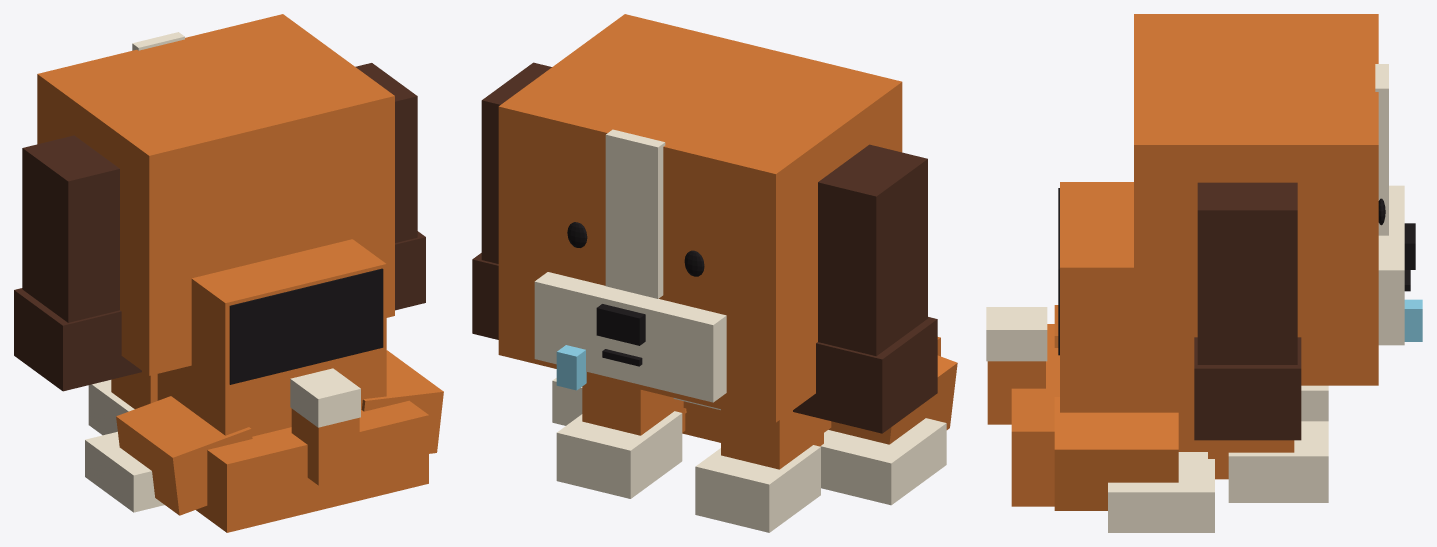
Rendered from Beagle_Block.obj.
The picture shows the model from 3 angles, left to right: view 1: azimuth 30°, elevation 25°; view 2: azimuth 150°, elevation 25°; view 3: azimuth 270°, elevation 25°; orthographic projection. The views are drawn at different scales.
Parts seen in each view (by area): view 1: NarrowHead, NarrowShortTorso, LongHangingEarL, GroundedRump, BlackBackSaddle, LegBL_Leg, SquareEarEndL, LongHangingEarR, LegBL_Paw, ShortTail, WhiteTailEnd, LegBR_Leg (+3 smaller); view 2: NarrowHead, LongHangingEarL, WhiteMuzzle, SquareEarEndL, WhiteCenterStripe, LegFR_Paw, LegFL_Paw, LegBL_Paw, LegFL_Leg, LegFR_Leg, LongHangingEarR, LegBL_Leg (+5 smaller); view 3: NarrowHead, NarrowShortTorso, LongHangingEarR, LegBR_Leg, SquareEarEndR, LegBR_Paw, LegFR_Paw, GroundedRump, WhiteMuzzle, WhiteTailEnd, ShortTail, WhiteCenterStripe (+4 smaller).
Boxes of the visible parts, x1=… form: NarrowHead: x1=37, y1=14, x2=394, y2=375; NarrowShortTorso: x1=157, y1=239, x2=386, y2=436; LongHangingEarL: x1=22, y1=135, x2=119, y2=322; GroundedRump: x1=196, y1=400, x2=428, y2=532; BlackBackSaddle: x1=229, y1=268, x2=383, y2=384; LegBL_Leg: x1=116, y1=396, x2=252, y2=515; SquareEarEndL: x1=14, y1=288, x2=141, y2=391; LongHangingEarR: x1=355, y1=63, x2=417, y2=242; LegBL_Paw: x1=85, y1=431, x2=164, y2=512; ShortTail: x1=291, y1=408, x2=359, y2=485; WhiteTailEnd: x1=290, y1=368, x2=360, y2=427; LegBR_Leg: x1=361, y1=350, x2=443, y2=453; NarrowHead: x1=498, y1=14, x2=902, y2=422; LongHangingEarL: x1=818, y1=144, x2=927, y2=356; WhiteMuzzle: x1=534, y1=272, x2=726, y2=402; SquareEarEndL: x1=793, y1=317, x2=937, y2=433; WhiteCenterStripe: x1=605, y1=129, x2=665, y2=298; LegFR_Paw: x1=556, y1=411, x2=682, y2=498; LegFL_Paw: x1=695, y1=445, x2=820, y2=532; LegBL_Paw: x1=820, y1=418, x2=946, y2=505; LegFL_Leg: x1=721, y1=409, x2=823, y2=469; LegFR_Leg: x1=582, y1=376, x2=685, y2=435; LongHangingEarR: x1=481, y1=62, x2=551, y2=263; LegBL_Leg: x1=828, y1=355, x2=957, y2=444; NarrowHead: x1=1134, y1=14, x2=1378, y2=385; NarrowShortTorso: x1=1060, y1=182, x2=1207, y2=451; LongHangingEarR: x1=1197, y1=182, x2=1297, y2=364; LegBR_Leg: x1=1054, y1=397, x2=1178, y2=510; SquareEarEndR: x1=1194, y1=337, x2=1301, y2=440; LegBR_Paw: x1=1108, y1=452, x2=1214, y2=532; LegFR_Paw: x1=1228, y1=421, x2=1328, y2=502; GroundedRump: x1=1011, y1=324, x2=1059, y2=506; WhiteMuzzle: x1=1378, y1=185, x2=1404, y2=345; WhiteTailEnd: x1=986, y1=307, x2=1047, y2=361; ShortTail: x1=987, y1=361, x2=1045, y2=424; WhiteCenterStripe: x1=1375, y1=64, x2=1388, y2=235.
Bounding box in the file's own units: 2.66 × 2.41 × 2.53.
